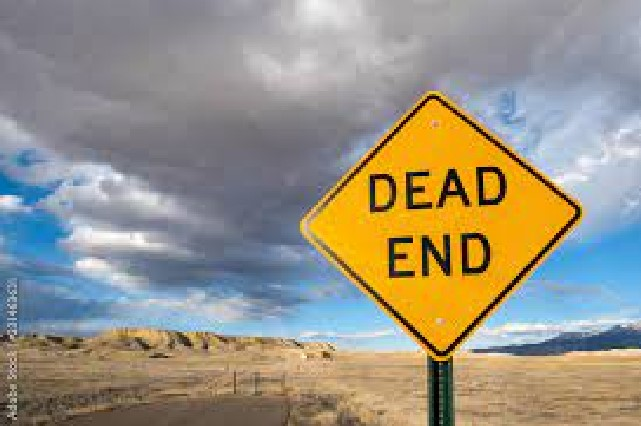Deadend: (298, 85, 584, 361)
